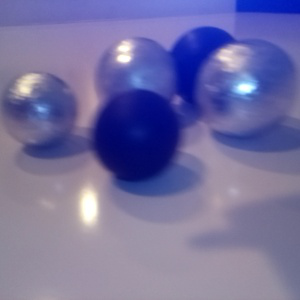alive_ball: (197, 37, 296, 138), (95, 37, 175, 113), (3, 71, 78, 149)
dead_ball: (92, 89, 181, 179), (169, 25, 241, 105)
